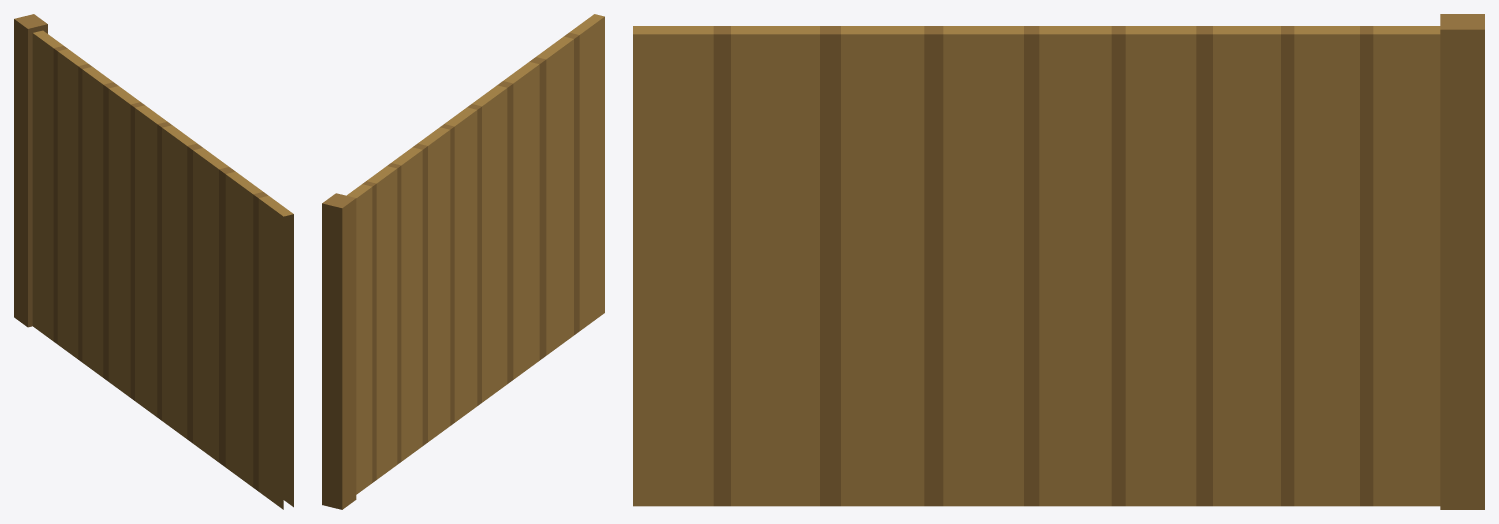
Rendered from Fence_Wood_02.fbx.
3 renders of one model, left to right at view 1: azimuth 30°, elevation 25°; view 2: azimuth 150°, elevation 25°; view 3: azimuth 270°, elevation 25°, orthographic. The views are drawn at different scales.
Parts seen in each view (by area): view 1: Fence_Wood_02; view 2: Fence_Wood_02; view 3: Fence_Wood_02.
Boxes of the visible parts, x1,y1,x2,y2 form: Fence_Wood_02: [14, 14, 293, 509]; Fence_Wood_02: [322, 14, 604, 509]; Fence_Wood_02: [633, 14, 1484, 509].
Bounding box in the file's own units: 0.2087 × 4.79 × 2.98.
